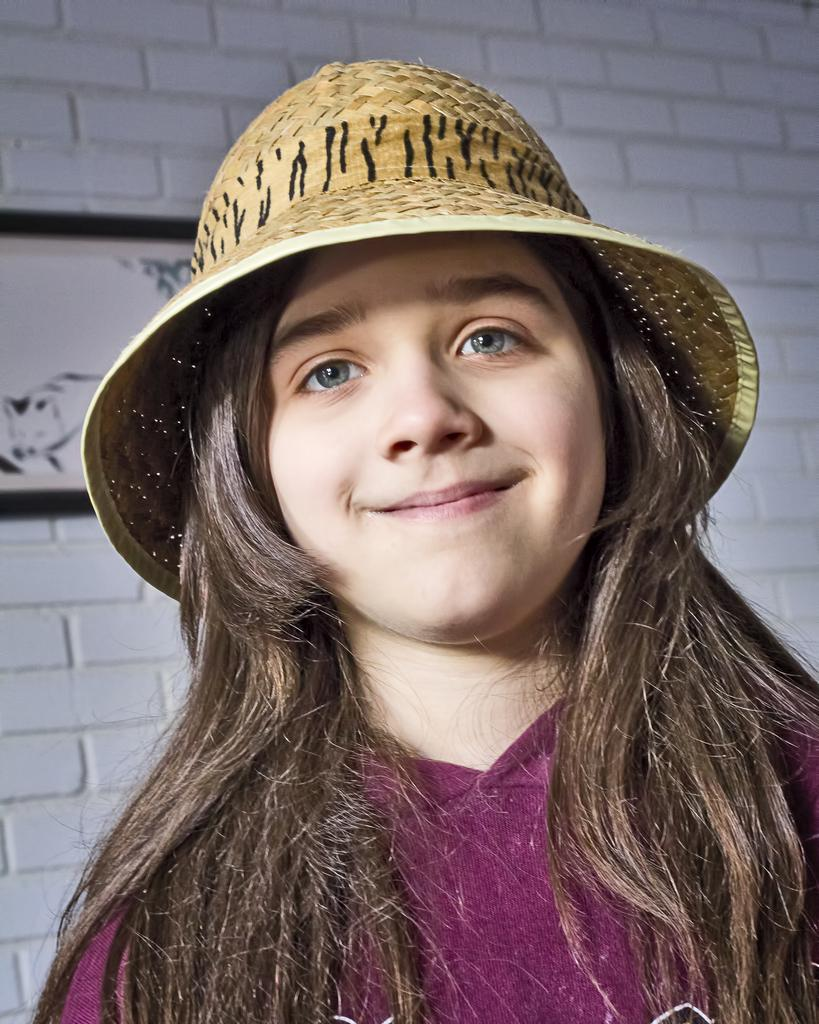Hat: (80, 57, 760, 602)
